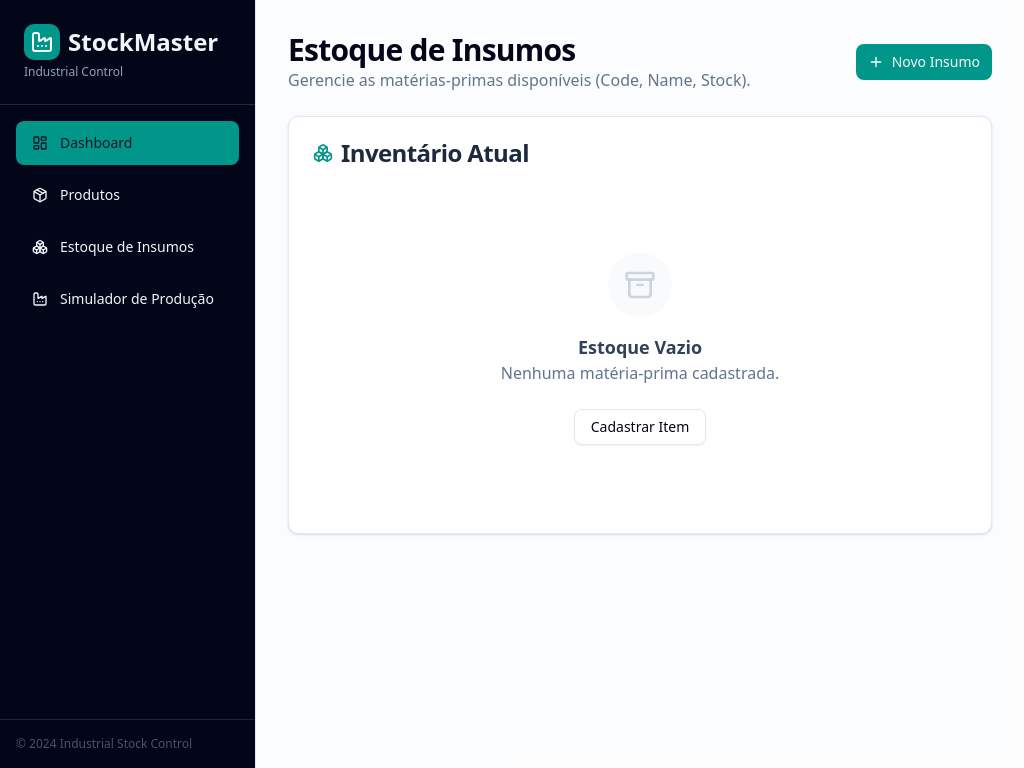
it: Página de Insumos › Deve abrir o modal ao clicar em Novo Insumo
Click the button "Novo Insumo" at (924, 62), box [856,44,992,80]
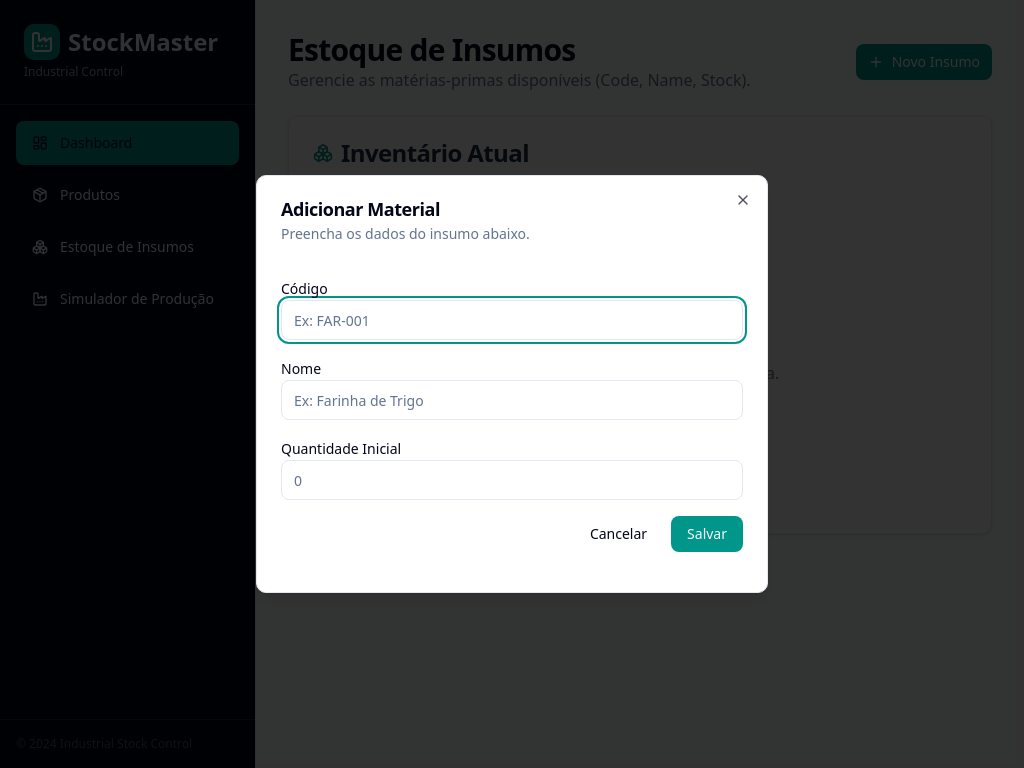
Expected: the heading "Adicionar Material" is shown, [281,197,440,221]
